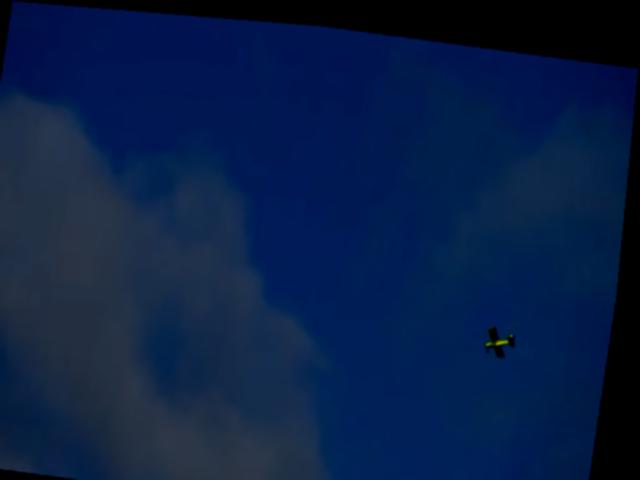plane: (490, 316, 523, 349)
